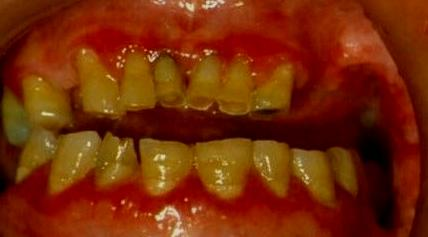Calculus: (251, 88, 293, 124)
Discoloration: (194, 137, 253, 190), (100, 134, 139, 178)
